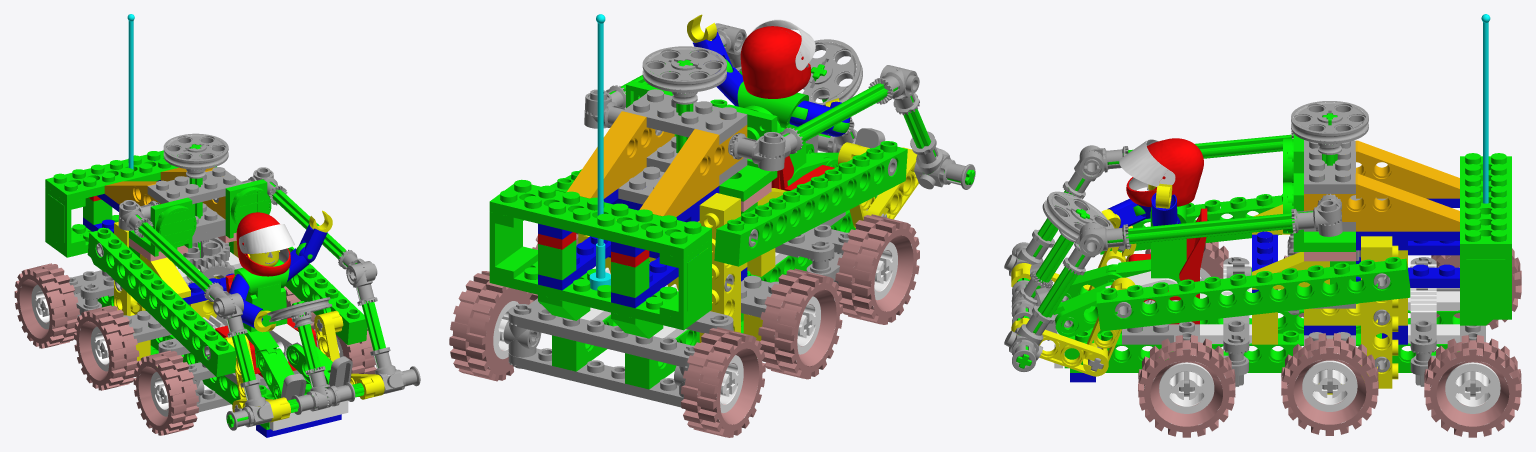
File: buggy.glb
The picture shows the model from 3 angles, left to right: view 1: azimuth 30°, elevation 25°; view 2: azimuth 150°, elevation 25°; view 3: azimuth 270°, elevation 25°; orthographic projection. The views are drawn at different scales.
Visible parts, largest first — view 1: body_115 (×3), prt_1_12_SOLIDS_1, body_113, prt_2_8_t_SOLIDS_4, body_64 (×5), prt_1_12_SOLIDS_3, body_21, body_82, technic_driver_torso_p_SOLIDS_1, body_70 (×2), technic_1_2_side_p_SOLIDS_3, technic_driver_helmet_p_SOLIDS_1 (+42 smaller); view 2: body_115 (×3), prt_1_12_SOLIDS_1, prt_2_8_t_SOLIDS_4, body_113, body_107 (×4), body_64 (×7), body_68, body_23, technic_driver_helmet_p_SOLIDS_1, prt_2_8_t_SOLIDS_1, body_21, body_82 (+31 smaller); view 3: body_115 (×4), prt_1_12_SOLIDS_3, body_114 (×3), prt_2_8_t_SOLIDS_4, body_23, body_64 (×5), prt_1_16_SOLIDS_1, body_68, prt_1_6_SOLIDS_1, technic_1_2_side_p_SOLIDS_1, body_59 (×3), technic_driver_helmet_p_SOLIDS_1 (+34 smaller).
Boxes of the visible parts, x1,y1,x2,y2 form: body_115 (×3): [74, 305, 376, 435]; prt_1_12_SOLIDS_1: [87, 227, 236, 377]; body_113: [14, 263, 79, 348]; prt_2_8_t_SOLIDS_4: [45, 144, 197, 202]; body_64 (×5): [119, 202, 377, 337]; prt_1_12_SOLIDS_3: [285, 246, 367, 344]; body_21: [147, 167, 243, 204]; body_82: [163, 133, 228, 169]; technic_driver_torso_p_SOLIDS_1: [234, 259, 289, 332]; body_70 (×2): [314, 310, 384, 399]; technic_1_2_side_p_SOLIDS_3: [45, 187, 85, 249]; technic_driver_helmet_p_SOLIDS_1: [236, 212, 290, 276]; body_115 (×3): [449, 214, 919, 381]; prt_1_12_SOLIDS_1: [714, 141, 907, 266]; prt_2_8_t_SOLIDS_4: [489, 179, 711, 258]; body_113: [681, 327, 765, 437]; body_107 (×4): [508, 224, 844, 368]; body_64 (×7): [584, 26, 919, 171]; body_68: [639, 125, 747, 216]; body_23: [567, 111, 674, 198]; technic_driver_helmet_p_SOLIDS_1: [740, 26, 810, 98]; prt_2_8_t_SOLIDS_1: [489, 261, 711, 330]; body_21: [622, 89, 747, 144]; body_82: [642, 46, 726, 92]; body_115 (×4): [1138, 241, 1521, 437]; prt_1_12_SOLIDS_3: [1096, 257, 1410, 331]; body_114 (×3): [1159, 353, 1500, 413]; prt_2_8_t_SOLIDS_4: [1460, 153, 1511, 253]; body_23: [1304, 173, 1459, 231]; body_64 (×5): [1062, 145, 1341, 275]; prt_1_16_SOLIDS_1: [1070, 330, 1459, 372]; body_68: [1355, 140, 1459, 198]; prt_1_6_SOLIDS_1: [1361, 236, 1398, 388]; technic_1_2_side_p_SOLIDS_1: [1460, 253, 1511, 309]; body_59 (×3): [1252, 231, 1459, 292]; technic_driver_helmet_p_SOLIDS_1: [1126, 138, 1203, 207].
Bounding box in the file's own units: 87.04 × 124 × 159.
